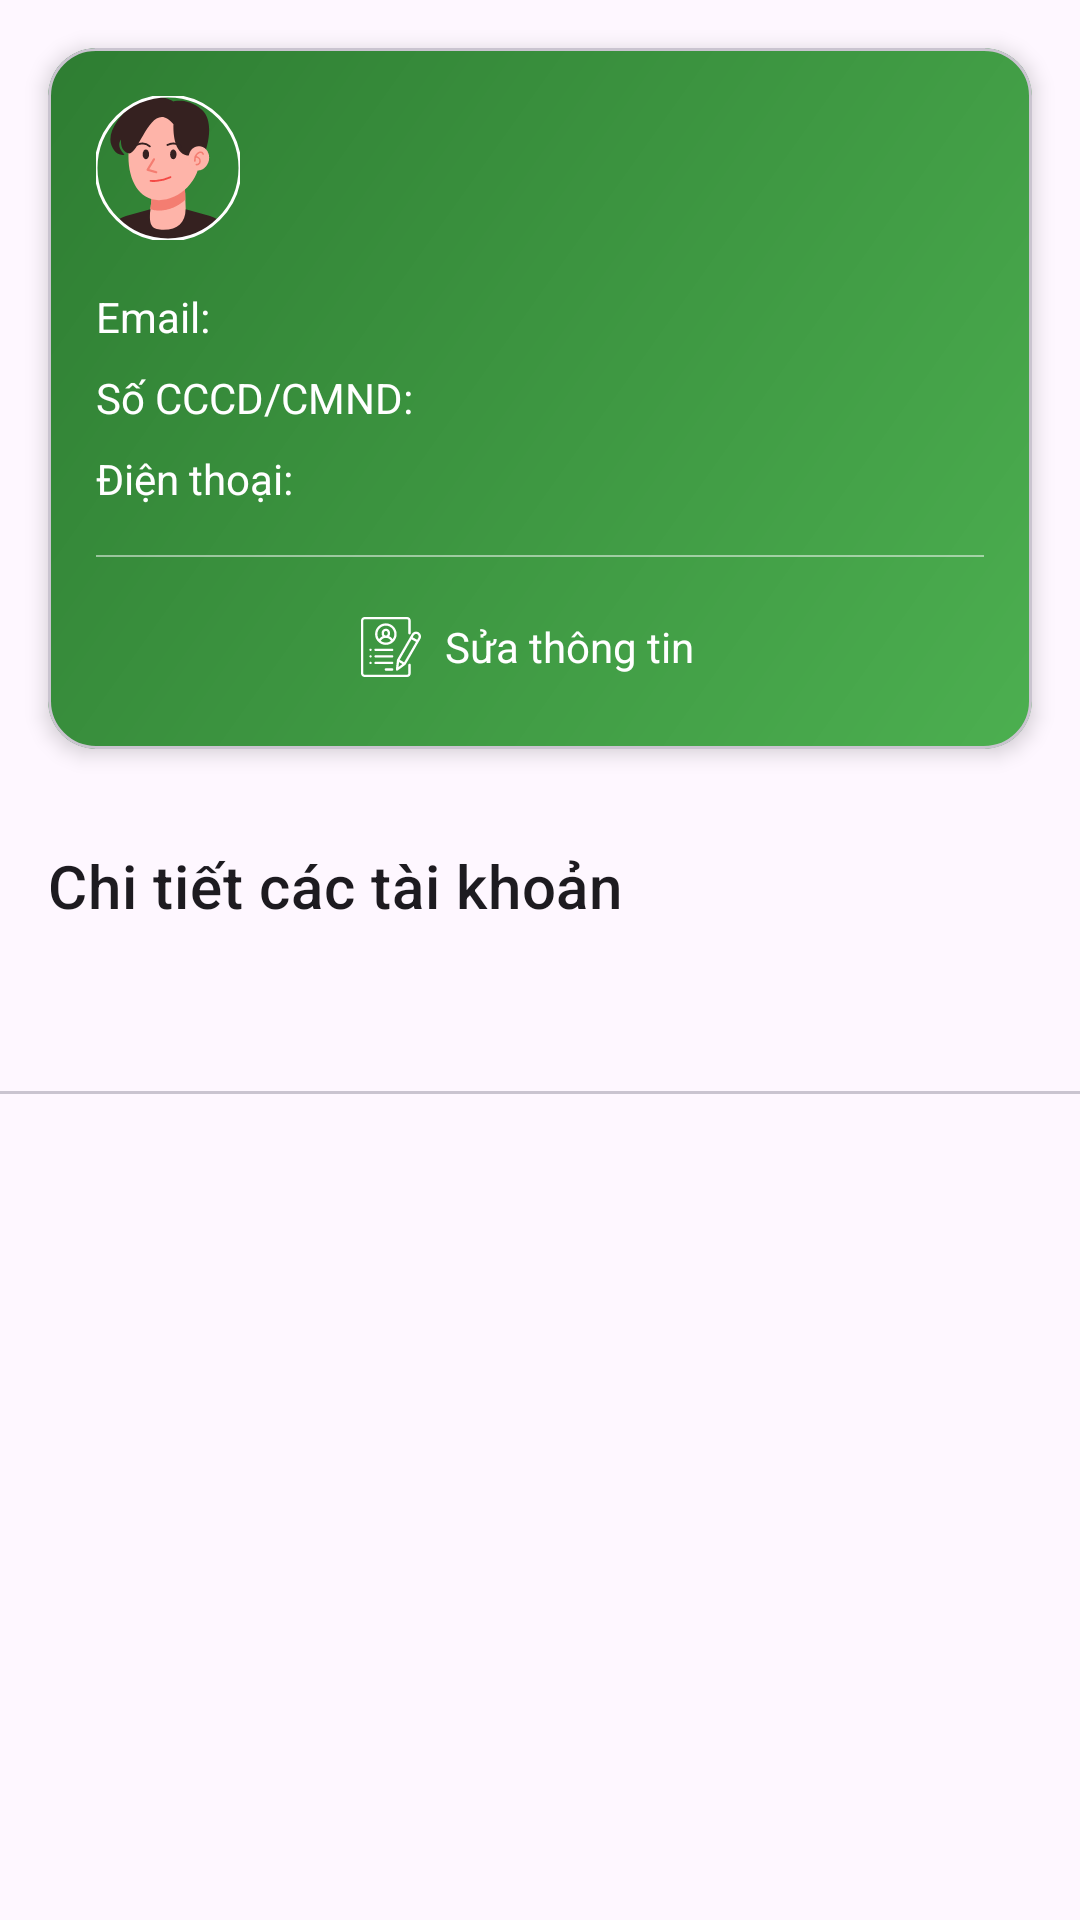

Where icons sit on this 1080*1920 app screen, as Rect(x1, y1, x2, y2):
edit: Rect(361, 617, 421, 677)
